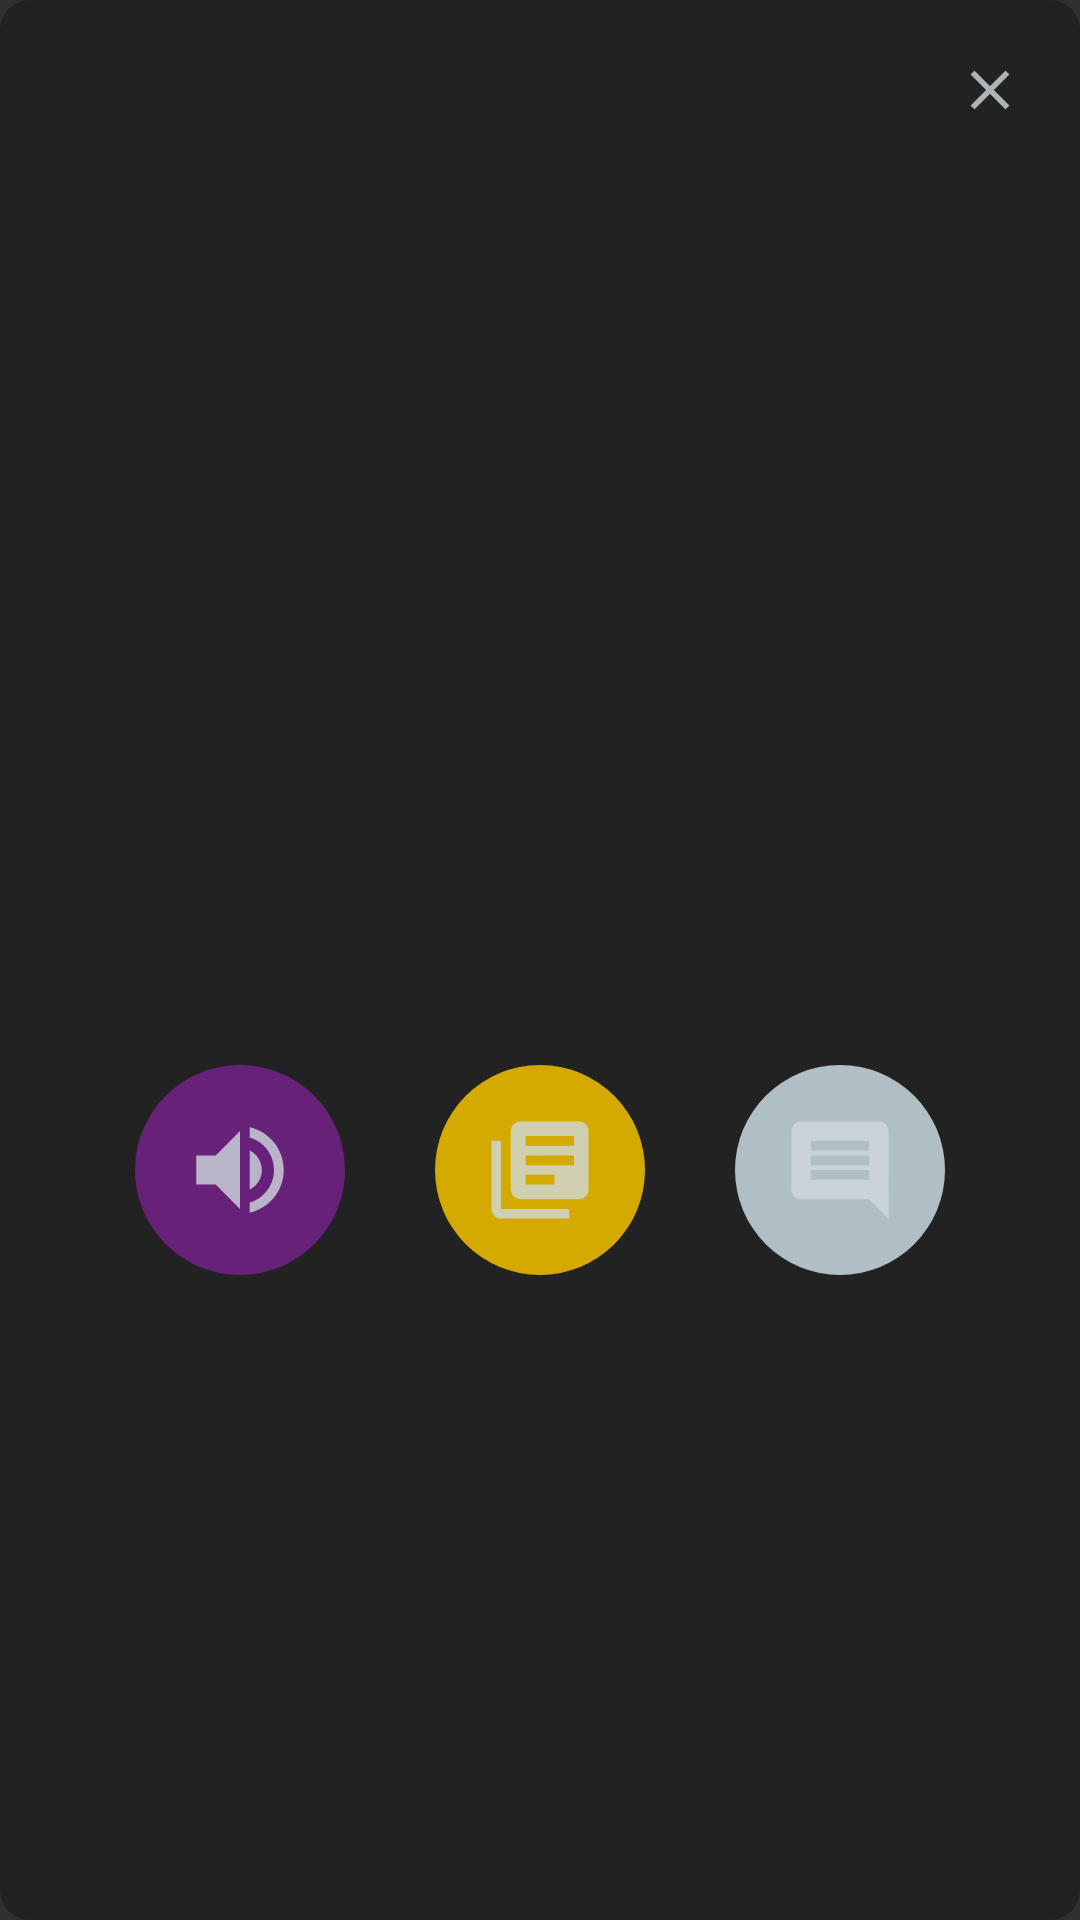

Where icons sit on this 1080w x 1920h app screen, as (x1, y1, x2, y2):
close: (971, 71, 1009, 109)
Comment: (735, 1065, 945, 1275)
Dictionary: (435, 1065, 645, 1275)
speech: (135, 1065, 345, 1275)
